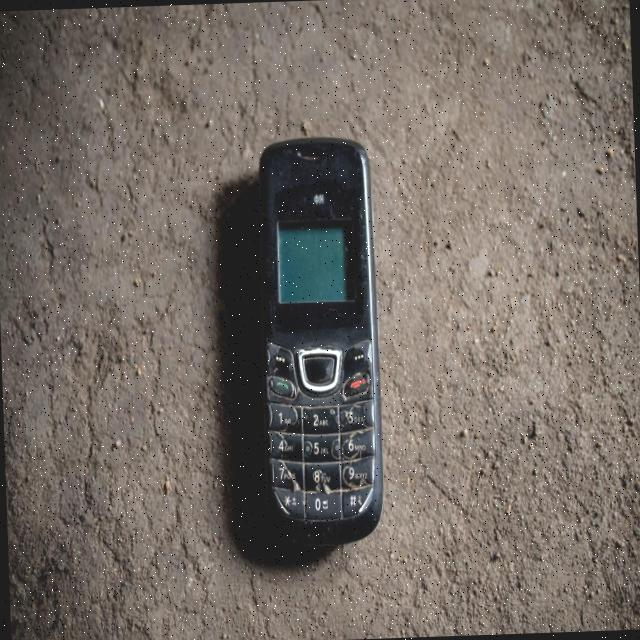Phone: (240, 126, 392, 545)
